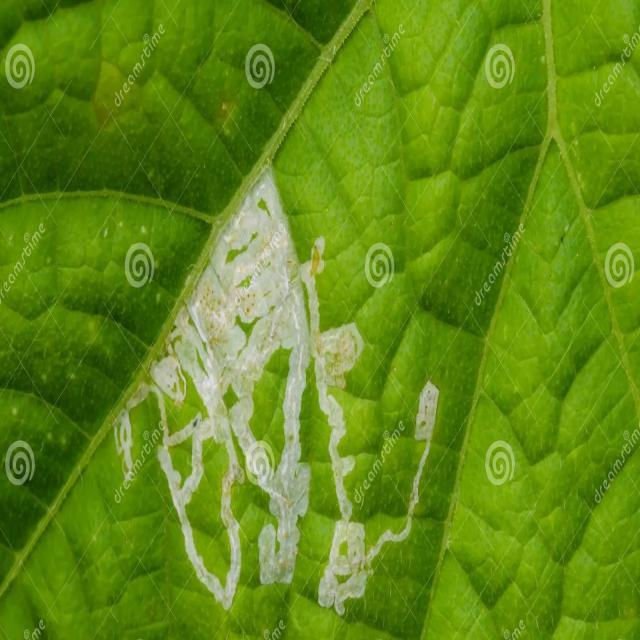Serpentine leafminer: (114, 161, 442, 615)
